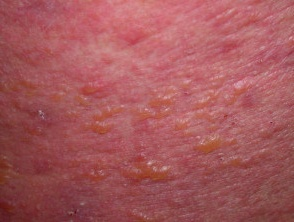SJS-TEN: (0, 26, 290, 222)
